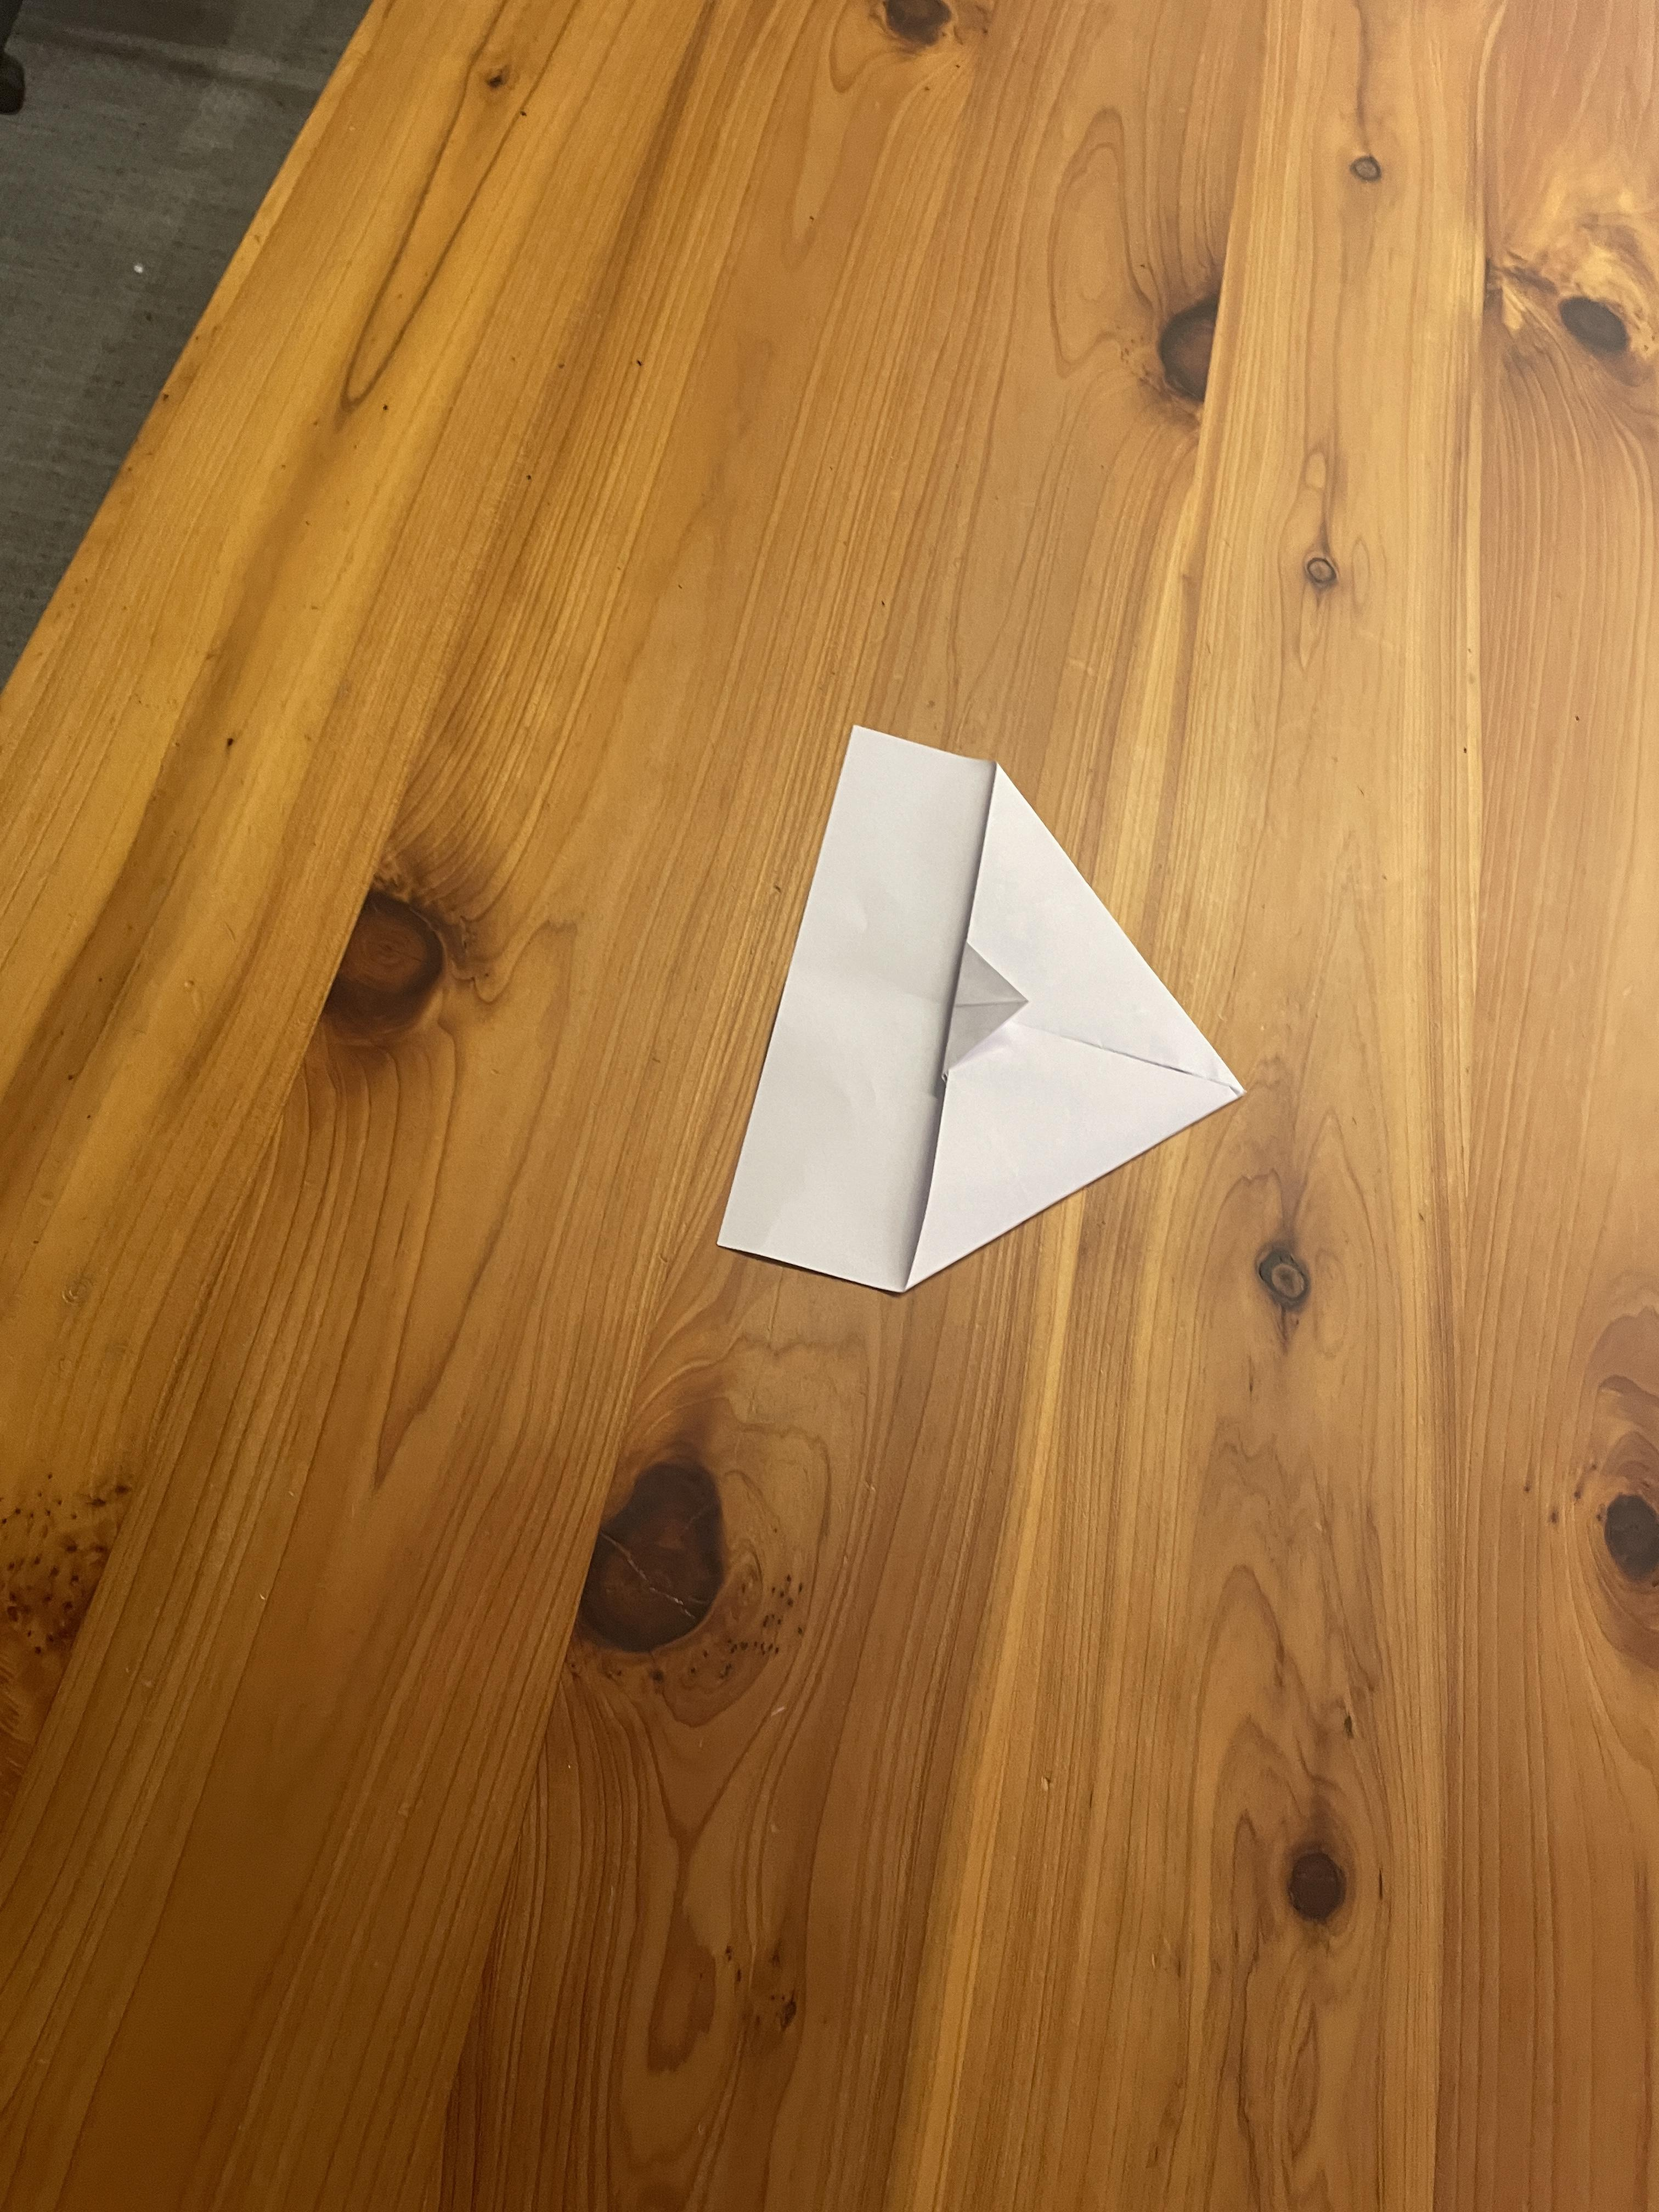shape_2: (642, 670, 1342, 1415)
